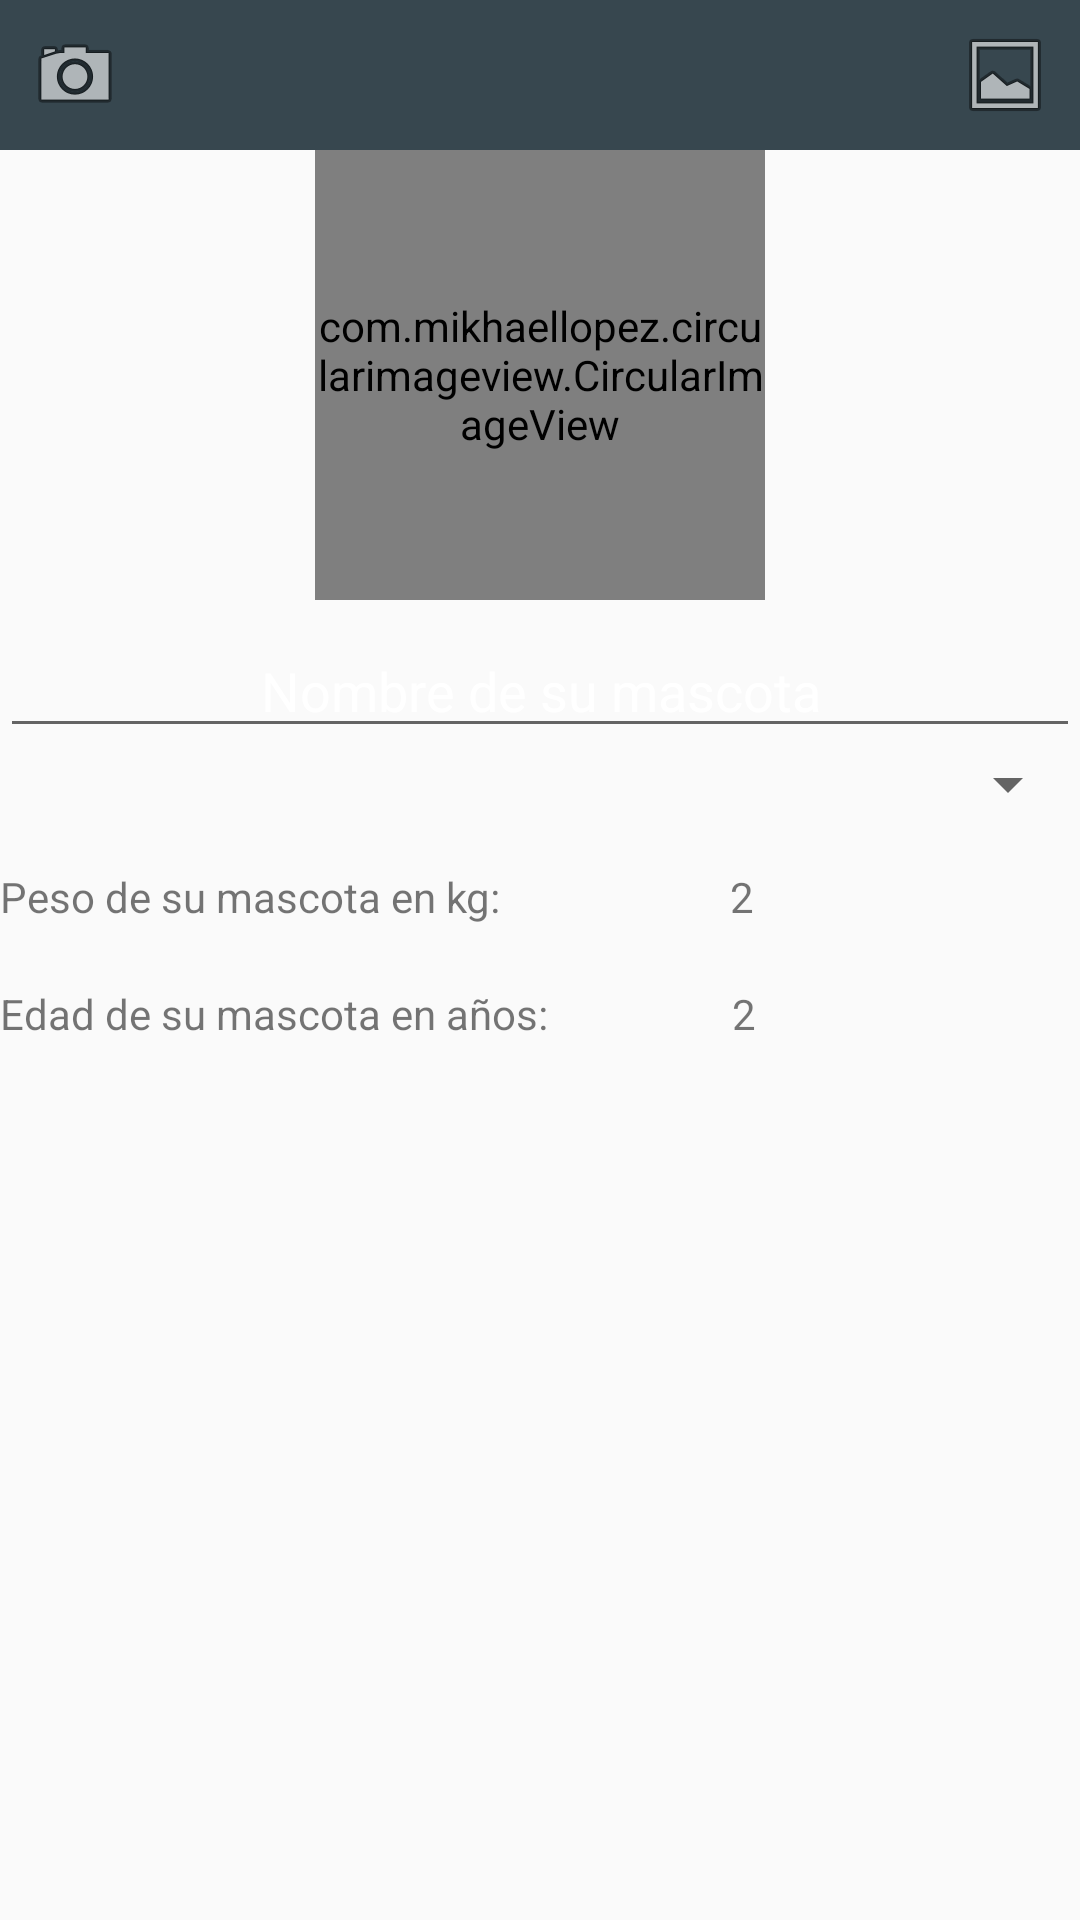

Icons on this 1080 × 1920 Android screen, each with its box as bbox(x1, y1, x2, y2):
camera: bbox(39, 45, 111, 102)
gallery: bbox(969, 39, 1041, 111)
